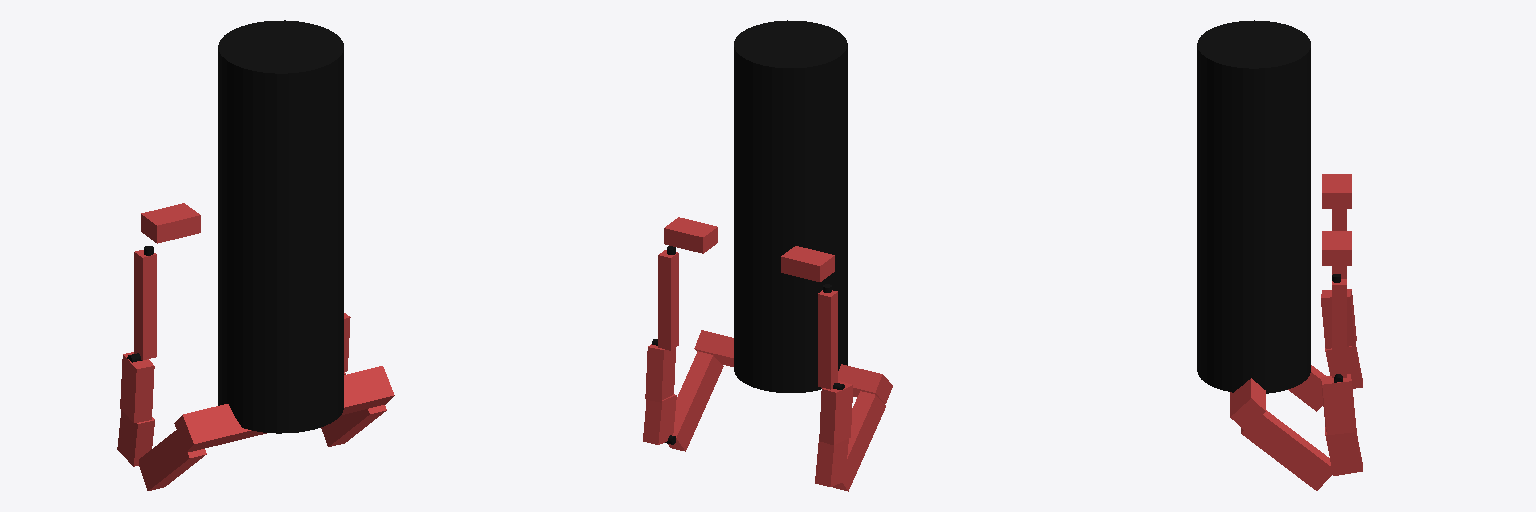
The robot description file, URDF, robot "upperBodyXO_v1":
<?xml version="1.0"?>
<robot name="upperBodyXO_v1">
  <link name="pelvis">
    <inertial>
      <origin rpy="0 -1.5708 0" xyz="0.00115 0.02425 0.00012"/>
      <mass value="12.8142"/>
      <inertia ixx="0.086831" ixy="-9.8e-05" ixz="-1.4e-06" iyy="0.12768" iyz="-0.019368" izz="0.12709"/>
    </inertial>
    <visual><!--pelvis_visual_box-->
      <origin rpy="0.7854 0 0" xyz="0 -0.02 0"/>
      <geometry>
        <box size="0.7 0.1 0.07"/>
      </geometry>
      <material name="XOred">
        <color rgba="0.8 0.3 0.3 0.8"/>
      </material>
    </visual>
    <visual><!--pelvis_visual_cylinder-->
      <origin rpy="0 0 0" xyz="0 0 0.6"/>
      <geometry>
        <cylinder length="1.2" radius="0.1905"/>
      </geometry>
      <material name="black">
        <color rgba="0.1 0.1 0.1 0.8"/>
      </material>
    </visual>
    </link>
  <link name="r_ushou">
    <inertial>
      <origin rpy="0 0 0" xyz="0.0164 0.0039 -0.19416"/>
      <mass value="4.8909"/>
      <inertia ixx="0.0017929" ixy="0.0017929" ixz="0.0046508" iyy="0.034874" iyz="0.0073972" izz="0.012524"/>
    </inertial>
    <visual><!--r_ushou_visual_jointCylinder-->
      <origin rpy="0 0 0" xyz="0 0 0"/>
      <geometry>
        <cylinder length="0.04" radius="0.015"/>
      </geometry>
      <material name="black">
        <color rgba="0.1 0.1 0.1 0.8"/>
      </material>
    </visual>
    <visual><!--r_ushou_visual_box-->
      <origin rpy="0 0 0" xyz="0 0 -0.16307"/>
      <geometry>
        <box size="0.06 0.1 0.3302"/>
      </geometry>
      <material name="XOred">
        <color rgba="0.8 0.3 0.3 0.8"/>
      </material>
    </visual>
    </link>
  <link name="r_lshou">
    <inertial>
      <origin rpy="0 0 0" xyz="0.11093 0.01825 0.02571"/>
      <mass value="3.2262"/>
      <inertia ixx="0.0042548" ixy="0.0002492" ixz="-0.0002769" iyy="0.0076126" iyz="-5.2e-05" izz="0.007705"/>
    </inertial>
    <visual><!--r_lshou_visual_jointCylinder-->
      <origin rpy="0 0 0" xyz="0 0 0"/>
      <geometry>
        <cylinder length="0.04" radius="0.015"/>
      </geometry>
      <material name="black">
        <color rgba="0.1 0.1 0.1 0.8"/>
      </material>
    </visual>
    <visual><!--r_lshou_visual_box-->
      <origin rpy="0 0 -0.087266" xyz="0.0772 0.024536 0.024638"/>
      <geometry>
        <box size="0.15494 0.1 0.06"/>
      </geometry>
      <material name="XOred">
        <color rgba="0.8 0.3 0.3 0.8"/>
      </material>
    </visual>
    </link>
  <link name="r_uarm">
    <inertial>
      <origin rpy="0 0 0" xyz="-0.00114 -0.00151 0.11122"/>
      <mass value="4.8829"/>
      <inertia ixx="0.019109" ixy="0.0001927" ixz="-0.0025684" iyy="0.018812" iyz="-0.0002236" izz="0.011074"/>
    </inertial>
    <visual><!--r_uarm_visual_jointCylinder-->
      <origin rpy="0 0 0" xyz="0 0 0"/>
      <geometry>
        <cylinder length="0.04" radius="0.015"/>
      </geometry>
      <material name="black">
        <color rgba="0.1 0.1 0.1 0.8"/>
      </material>
    </visual>
    <visual><!--r_uarm_visual_box-->
      <origin rpy="0 0 -0.087266" xyz="0 -0.0081788 0.09398"/>
      <geometry>
        <box size="0.06 0.1 0.18796"/>
      </geometry>
      <material name="XOred">
        <color rgba="0.8 0.3 0.3 0.8"/>
      </material>
    </visual>
    </link>
  <link name="r_larm">
    <inertial>
      <origin rpy="0 0 0" xyz="0.11918 -0.02395 -0.03337"/>
      <mass value="0.69113"/>
      <inertia ixx="0.0004628" ixy="0.0009098" ixz="-0.0004177" iyy="0.010386" iyz="-1.28e-05" izz="0.010507"/>
    </inertial>
    <visual><!--r_larm_visual_jointCylinder-->
      <origin rpy="0 0 0" xyz="0 0 0"/>
      <geometry>
        <cylinder length="0.04" radius="0.015"/>
      </geometry>
      <material name="black">
        <color rgba="0.1 0.1 0.1 0.8"/>
      </material>
    </visual>
    <visual><!--r_larm_visual_box-->
      <origin rpy="0 0 0" xyz="0.17145 0.003048 -0.03683"/>
      <geometry>
        <box size="0.3429 0.05 0.05"/>
      </geometry>
      <material name="XOred">
        <color rgba="0.8 0.3 0.3 0.8"/>
      </material>
    </visual>
    </link>
  <link name="r_hand">
    <inertial>
      <origin rpy="0 0 0" xyz="0.07931 0.00146 0.0648"/>
      <mass value="3.2281"/>
      <inertia ixx="0.016224" ixy="0.000437" ixz="0.0051128" iyy="0.039465" iyz="-0.0003224" izz="0.034758"/>
    </inertial>
    <visual><!--r_hand_visual_jointCylinder-->
      <origin rpy="0 0 0" xyz="0 0 0"/>
      <geometry>
        <cylinder length="0.04" radius="0.015"/>
      </geometry>
      <material name="black">
        <color rgba="0.1 0.1 0.1 0.8"/>
      </material>
    </visual>
    <visual><!--r_hand_visual_box-->
      <origin rpy="0 0 0" xyz="0.0762 0 0.083388"/>
      <geometry>
        <box size="0.1524 0.1 0.06"/>
      </geometry>
      <material name="XOred">
        <color rgba="0.8 0.3 0.3 0.8"/>
      </material>
    </visual>
    </link>
  <link name="l_ushou">
    <inertial>
      <origin rpy="0 0 0" xyz="0.01647 0.00381 0.19425"/>
      <mass value="4.8909"/>
      <inertia ixx="0.036159" ixy="0.0018219" ixz="-0.0046394" iyy="0.034888" iyz="-0.0074231" izz="0.012539"/>
    </inertial>
    <visual><!--l_ushou_visual_jointCylinder-->
      <origin rpy="0 0 0" xyz="0 0 0"/>
      <geometry>
        <cylinder length="0.04" radius="0.015"/>
      </geometry>
      <material name="black">
        <color rgba="0.1 0.1 0.1 0.8"/>
      </material>
    </visual>
    <visual><!--l_ushou_visual_box-->
      <origin rpy="0 0 0" xyz="0 0 0.16307"/>
      <geometry>
        <box size="0.06 0.1 0.3302"/>
      </geometry>
      <material name="XOred">
        <color rgba="0.8 0.3 0.3 0.8"/>
      </material>
    </visual>
    </link>
  <link name="l_lshou">
    <inertial>
      <origin rpy="0 0 0" xyz="0.11087 0.0182 -0.02557"/>
      <mass value="3.231"/>
      <inertia ixx="0.0042649" ixy="0.0002646" ixz="0.0002986" iyy="0.0076452" iyz="5.18e-05" izz="0.0077414"/>
    </inertial>
    <visual><!--l_lshou_visual_jointCylinder-->
      <origin rpy="0 0 0" xyz="0 0 0"/>
      <geometry>
        <cylinder length="0.04" radius="0.015"/>
      </geometry>
      <material name="black">
        <color rgba="0.1 0.1 0.1 0.8"/>
      </material>
    </visual>
    <visual><!--l_lshou_visual_box-->
      <origin rpy="0 0 -0.087266" xyz="0.0772 0.024536 -0.024638"/>
      <geometry>
        <box size="0.15494 0.1 0.06"/>
      </geometry>
      <material name="XOred">
        <color rgba="0.8 0.3 0.3 0.8"/>
      </material>
    </visual>
    </link>
  <link name="l_uarm">
    <inertial>
      <origin rpy="0 0 0" xyz="-0.00112 -0.00157 -0.11125"/>
      <mass value="4.8803"/>
      <inertia ixx="0.019132" ixy="0.0001585" ixz="0.0025749" iyy="0.018815" iyz="0.0002531" izz="0.011079"/>
    </inertial>
    <visual><!--l_uarm_visual_jointCylinder-->
      <origin rpy="0 0 0" xyz="0 0 0"/>
      <geometry>
        <cylinder length="0.04" radius="0.015"/>
      </geometry>
      <material name="black">
        <color rgba="0.1 0.1 0.1 0.8"/>
      </material>
    </visual>
    <visual><!--l_uarm_visual_box-->
      <origin rpy="0 0 -0.087266" xyz="0 -0.0081788 -0.09398"/>
      <geometry>
        <box size="0.06 0.1 0.18796"/>
      </geometry>
      <material name="XOred">
        <color rgba="0.8 0.3 0.3 0.8"/>
      </material>
    </visual>
    </link>
  <link name="l_larm">
    <inertial>
      <origin rpy="0 0 0" xyz="0.11918 -0.02395 0.0337"/>
      <mass value="0.69113"/>
      <inertia ixx="0.0004628" ixy="0.0009098" ixz="0.0004177" iyy="0.010386" iyz="1.28e-05" izz="0.010507"/>
    </inertial>
    <visual><!--l_larm_visual_jointCylinder-->
      <origin rpy="0 0 0" xyz="0 0 0"/>
      <geometry>
        <cylinder length="0.04" radius="0.015"/>
      </geometry>
      <material name="black">
        <color rgba="0.1 0.1 0.1 0.8"/>
      </material>
    </visual>
    <visual><!--l_larm_visual_box-->
      <origin rpy="0 0 0" xyz="0.17145 0.003048 0.03683"/>
      <geometry>
        <box size="0.3429 0.05 0.05"/>
      </geometry>
      <material name="XOred">
        <color rgba="0.8 0.3 0.3 0.8"/>
      </material>
    </visual>
    </link>
  <link name="l_hand">
    <inertial>
      <origin rpy="0 0 0" xyz="0.07931 0.00146 -0.0648"/>
      <mass value="3.231"/>
      <inertia ixx="0.015967" ixy="0.0002098" ixz="-0.0057656" iyy="0.039945" iyz="0.0002799" izz="0.034993"/>
    </inertial>
    <visual><!--l_hand_visual_jointCylinder-->
      <origin rpy="0 0 0" xyz="0 0 0"/>
      <geometry>
        <cylinder length="0.04" radius="0.015"/>
      </geometry>
      <material name="black">
        <color rgba="0.1 0.1 0.1 0.8"/>
      </material>
    </visual>
    <visual><!--l_hand_visual_box-->
      <origin rpy="0 0 0" xyz="0.0762 0 -0.083388"/>
      <geometry>
        <box size="0.1524 0.1 0.06"/>
      </geometry>
      <material name="XOred">
        <color rgba="0.8 0.3 0.3 0.8"/>
      </material>
    </visual>
    </link>
  <link name="l_hand_FT">
    <inertial>
      <origin rpy="0 0 1.7453e-05" xyz="0 0 0"/>
      <mass value="0.001"/>
      <inertia ixx="0.001" ixy="0" ixz="0" iyy="0.001" iyz="0" izz="0.001"/>
    </inertial>
    </link>
  <link name="r_hand_FT">
    <inertial>
      <origin rpy="0 0 1.7453e-05" xyz="0 0 0"/>
      <mass value="0.001"/>
      <inertia ixx="0.001" ixy="0" ixz="0" iyy="0.001" iyz="0" izz="0.001"/>
    </inertial>
    </link>
  <joint name="ra1_sho_abad" type="revolute">
    <axis xyz="0 0 1"/>
    <origin rpy="-0.87266 0 3.1416" xyz="-0.31433 -0.0097288 -0.036922"/>
    <parent link="pelvis"/>
    <child link="r_ushou"/>
    <limit effort="100" lower="-0.17453" upper="2.0944" velocity="12"/>
    <dynamics damping="0.1" friction="0"/>
  </joint>
  <joint name="ra2_sho_flex" type="revolute">
    <axis xyz="0 0 1"/>
    <origin rpy="-1.5708 -0.7854 -1.5708" xyz="-0.00635 -0.0508 -0.33884"/>
    <parent link="r_ushou"/>
    <child link="r_lshou"/>
    <limit effort="100" lower="-0.47647" upper="2.0944" velocity="12"/>
    <dynamics damping="0.1" friction="0"/>
  </joint>
  <joint name="ra3_hum_rota" type="revolute">
    <axis xyz="0 0 1"/>
    <origin rpy="0 1.5708 0" xyz="0.1524 0.029642 0.030912"/>
    <parent link="r_lshou"/>
    <child link="r_uarm"/>
    <limit effort="100" lower="-1.3963" upper="0.87266" velocity="12"/>
    <dynamics damping="0.1" friction="0"/>
  </joint>
  <joint name="ra4_elb_flex" type="revolute">
    <axis xyz="0 0 1"/>
    <origin rpy="-1.5708 -1.4835 1.5708" xyz="-0.00635 0 0.1892"/>
    <parent link="r_uarm"/>
    <child link="r_larm"/>
    <limit effort="100" lower="0" upper="2.6704" velocity="12"/>
    <dynamics damping="0.1" friction="0"/>
  </joint>
  <joint name="ra5_wri_rota" type="revolute">
    <axis xyz="0 0 1"/>
    <origin rpy="0 1.5708 0" xyz="0.3429 -0.006096 -0.042977"/>
    <parent link="r_larm"/>
    <child link="r_hand"/>
    <limit effort="100" lower="-1.5708" upper="1.5708" velocity="10"/>
    <dynamics damping="0.1" friction="0"/>
  </joint>
  <joint name="la1_sho_abad" type="revolute">
    <axis xyz="0 0 1"/>
    <origin rpy="-2.2689 0 0" xyz="0.31433 -0.0097288 -0.036922"/>
    <parent link="pelvis"/>
    <child link="l_ushou"/>
    <limit effort="100" lower="-0.17453" upper="2.0944" velocity="12"/>
    <dynamics damping="0.1" friction="0"/>
  </joint>
  <joint name="la2_sho_flex" type="revolute">
    <axis xyz="0 0 1"/>
    <origin rpy="1.5708 0.7854 -1.5708" xyz="-0.00635 -0.0508 0.33884"/>
    <parent link="l_ushou"/>
    <child link="l_lshou"/>
    <limit effort="100" lower="-0.47647" upper="2.0944" velocity="12"/>
    <dynamics damping="0.1" friction="0"/>
  </joint>
  <joint name="la3_hum_rota" type="revolute">
    <axis xyz="0 0 1"/>
    <origin rpy="0 -1.5708 0" xyz="0.1524 0.029642 -0.030912"/>
    <parent link="l_lshou"/>
    <child link="l_uarm"/>
    <limit effort="100" lower="-1.3963" upper="0.87266" velocity="12"/>
    <dynamics damping="0.1" friction="0"/>
  </joint>
  <joint name="la4_elb_flex" type="revolute">
    <axis xyz="0 0 1"/>
    <origin rpy="1.5708 1.4835 1.5708" xyz="-0.00635 0 -0.1892"/>
    <parent link="l_uarm"/>
    <child link="l_larm"/>
    <limit effort="100" lower="0" upper="2.6704" velocity="12"/>
    <dynamics damping="0.1" friction="0"/>
  </joint>
  <joint name="la5_wri_rota" type="revolute">
    <axis xyz="0 0 1"/>
    <origin rpy="0 -1.5708 0" xyz="0.3429 -0.006096 0.042977"/>
    <parent link="l_larm"/>
    <child link="l_hand"/>
    <limit effort="100" lower="-1.5708" upper="1.5708" velocity="10"/>
    <dynamics damping="0.1" friction="0"/>
  </joint>
  <joint name="ft3_l_hand" type="revolute">
    <axis xyz="0 0 1"/>
    <origin rpy="1.5708 1.5708 0" xyz="0 0 -0.0834"/>
    <parent link="l_hand"/>
    <child link="l_hand_FT"/>
    <limit effort="200" lower="-0.005" upper="0.005" velocity="3"/>
    <dynamics damping="0.1" friction="0"/>
  </joint>
  <joint name="ft4_r_hand" type="revolute">
    <axis xyz="0 0 1"/>
    <origin rpy="-1.5708 1.5708 0" xyz="0 0 -0.0834"/>
    <parent link="r_hand"/>
    <child link="r_hand_FT"/>
    <limit effort="200" lower="-0.005" upper="0.005" velocity="4"/>
    <dynamics damping="0.1" friction="0"/>
  </joint>
  </robot>

--- Render facts (derived) ---
Views: 3 orthographic renders of the robot side by side, from view 1: azimuth 30°, elevation 25°; view 2: azimuth 150°, elevation 25°; view 3: azimuth 270°, elevation 25°.
Robot: upperBodyXO_v1 — 13 links, 12 joints (12 revolute); root link pelvis; default pose: all joints at 0.
Visible links, largest first — view 1: pelvis, r_larm, r_ushou, r_uarm, r_hand, r_lshou, l_ushou; view 2: pelvis, l_ushou, l_larm, r_ushou, r_larm, r_uarm, r_hand, l_hand, l_uarm, l_lshou, r_lshou; view 3: pelvis, l_ushou, l_uarm, l_larm, l_lshou, l_hand, r_hand, r_uarm, r_ushou, r_lshou.
Boxes of the visible links, x1=… form: pelvis: x1=174, y1=20, x2=394, y2=452; r_larm: x1=127, y1=250, x2=156, y2=362; r_ushou: x1=139, y1=430, x2=206, y2=490; r_uarm: x1=120, y1=352, x2=154, y2=422; r_hand: x1=141, y1=203, x2=200, y2=255; r_lshou: x1=117, y1=410, x2=154, y2=466; l_ushou: x1=321, y1=405, x2=386, y2=446; pelvis: x1=694, y1=20, x2=892, y2=403; l_ushou: x1=668, y1=351, x2=723, y2=451; l_larm: x1=652, y1=250, x2=678, y2=350; r_ushou: x1=832, y1=391, x2=885, y2=491; r_larm: x1=818, y1=290, x2=844, y2=389; r_uarm: x1=819, y1=381, x2=852, y2=444; r_hand: x1=781, y1=246, x2=834, y2=292; l_hand: x1=664, y1=217, x2=717, y2=254; l_uarm: x1=645, y1=344, x2=675, y2=402; l_lshou: x1=643, y1=394, x2=676, y2=444; r_lshou: x1=815, y1=439, x2=848, y2=486; pelvis: x1=1197, y1=20, x2=1310, y2=429; l_ushou: x1=1241, y1=410, x2=1332, y2=490; l_uarm: x1=1321, y1=374, x2=1356, y2=434; l_larm: x1=1332, y1=279, x2=1346, y2=382; l_lshou: x1=1325, y1=427, x2=1362, y2=475; l_hand: x1=1322, y1=231, x2=1351, y2=282; r_hand: x1=1322, y1=174, x2=1351, y2=208; r_uarm: x1=1321, y1=289, x2=1356, y2=348; r_ushou: x1=1288, y1=365, x2=1326, y2=411; r_lshou: x1=1325, y1=346, x2=1362, y2=388.
Size in the robot's own frame: 0.7463 by 0.5534 by 1.49 metres.
Geometry: primitives only (box / cylinder / sphere), no mesh files.